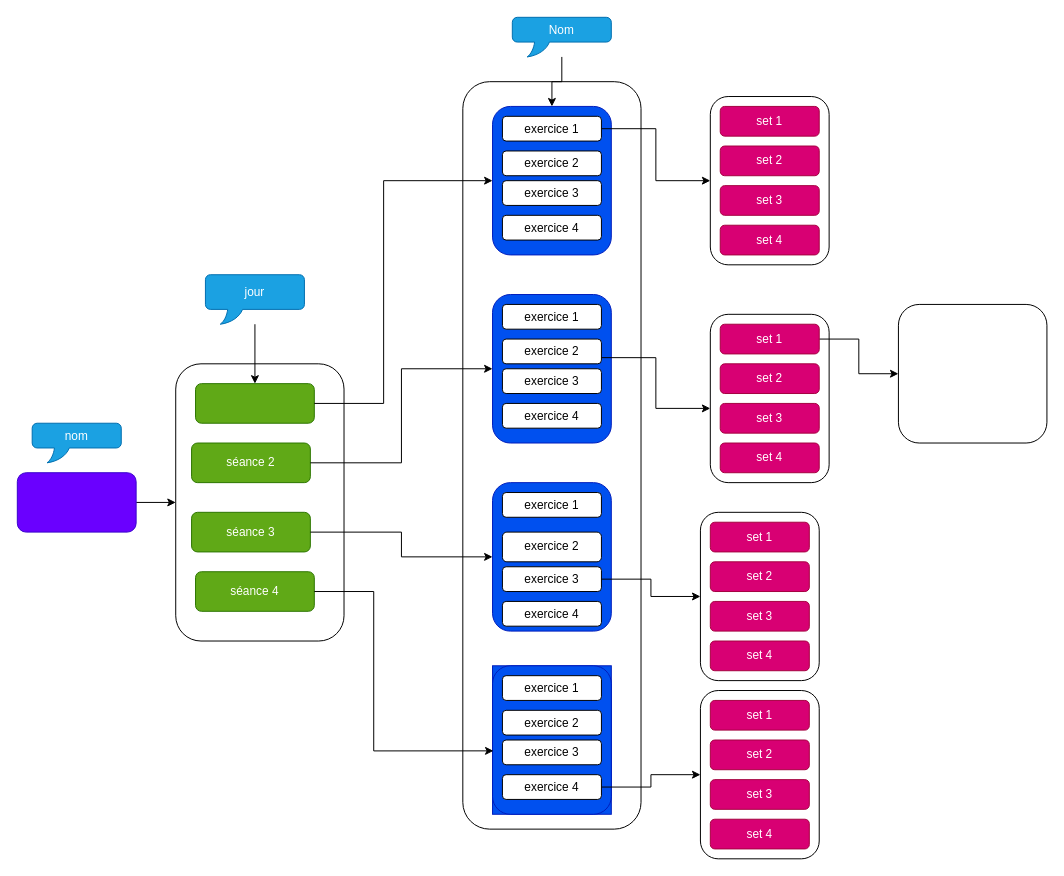
The diagram is 1064 pixels wide and 876 high, and some of its shapes have lost their labels. The centre of each missing label's shape, as x and y in pixels:
poids 10kg ou durée 3min: (x=972, y=373)
Programme: (x=76, y=502)
séance 1: (x=254, y=403)
